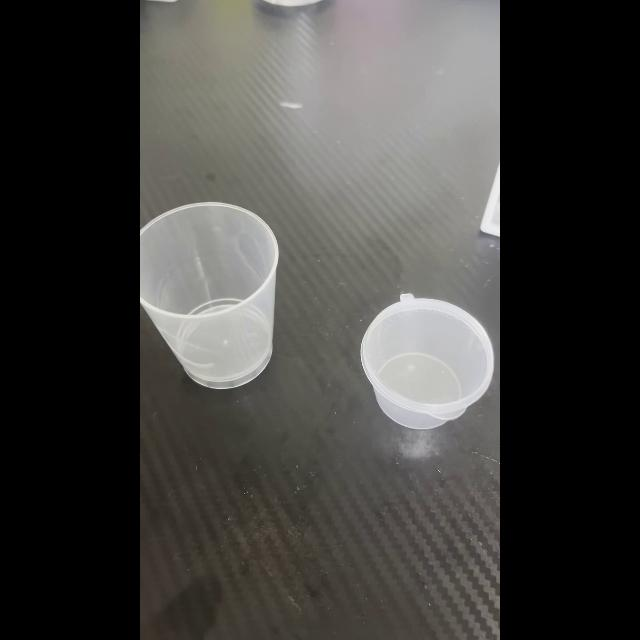clean: (140, 204, 280, 390), (363, 292, 491, 426)
